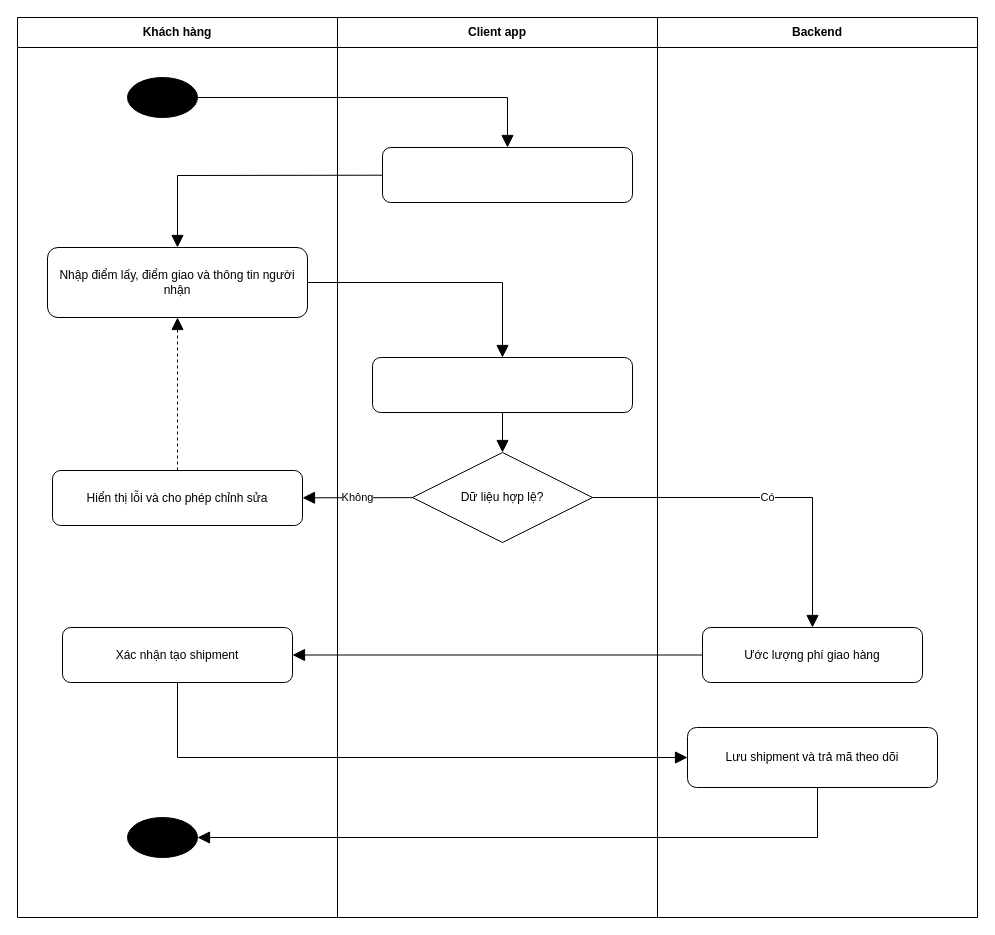
Image size: 995x935. Some labels were removed from this diagram. Here are the shapes that lost their labels. From the top down, the centre of each, then its label:
At point (162, 97): "Bắt đầu".
At point (507, 174): "Mở màn hình giao nhận".
At point (502, 384): "Mã hóa địa chỉ và kiểm tra dữ liệu".
At point (162, 837): "Kết thúc".
